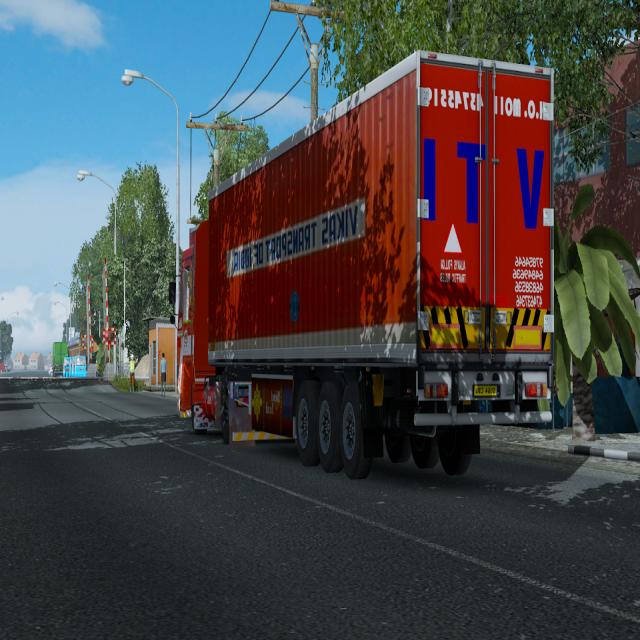truck: (178, 53, 559, 478)
